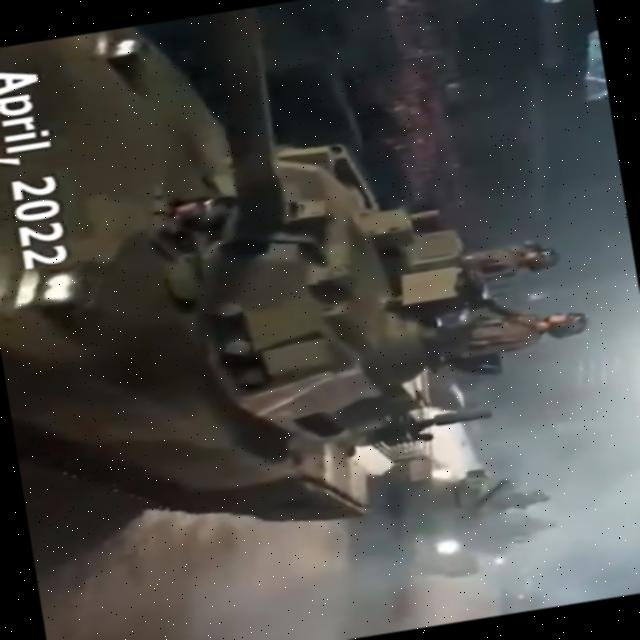north tank: (0, 0, 505, 601), (343, 429, 590, 636)
